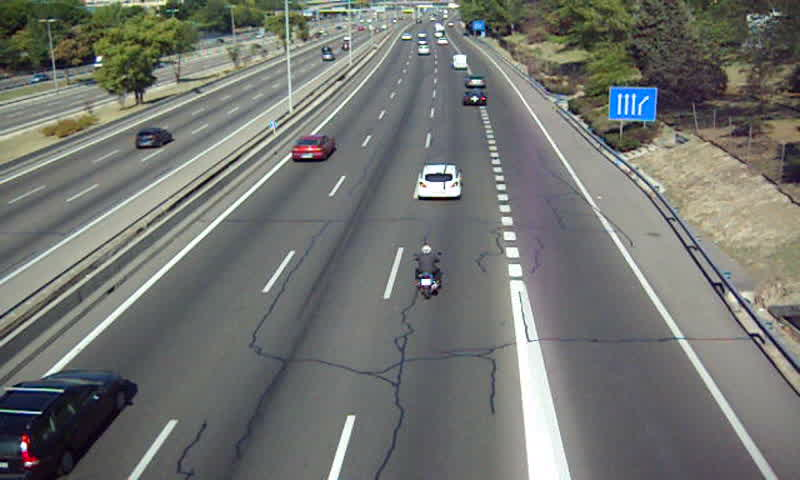car: (1, 371, 130, 480), (417, 164, 462, 199), (292, 136, 333, 162), (461, 90, 488, 106), (464, 74, 487, 90)
motorcycle: (411, 244, 443, 299)
van: (451, 53, 468, 70)
